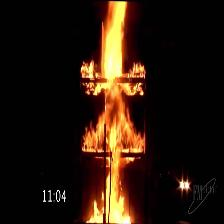fire: (90, 8, 133, 224)
